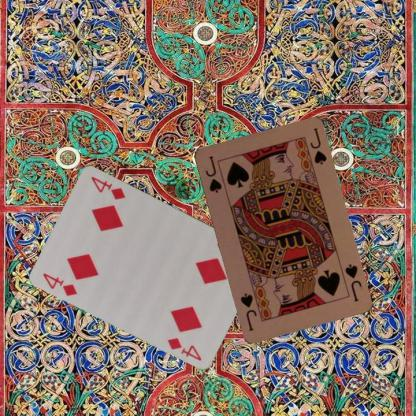4d: (41, 270, 79, 297)
Js: (342, 261, 363, 303), (202, 153, 223, 194)
